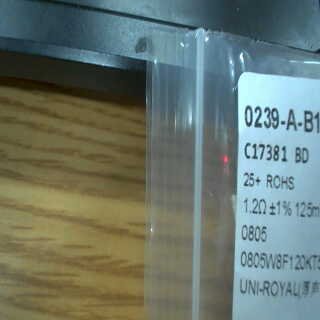1.2R: (242, 195, 268, 243)
